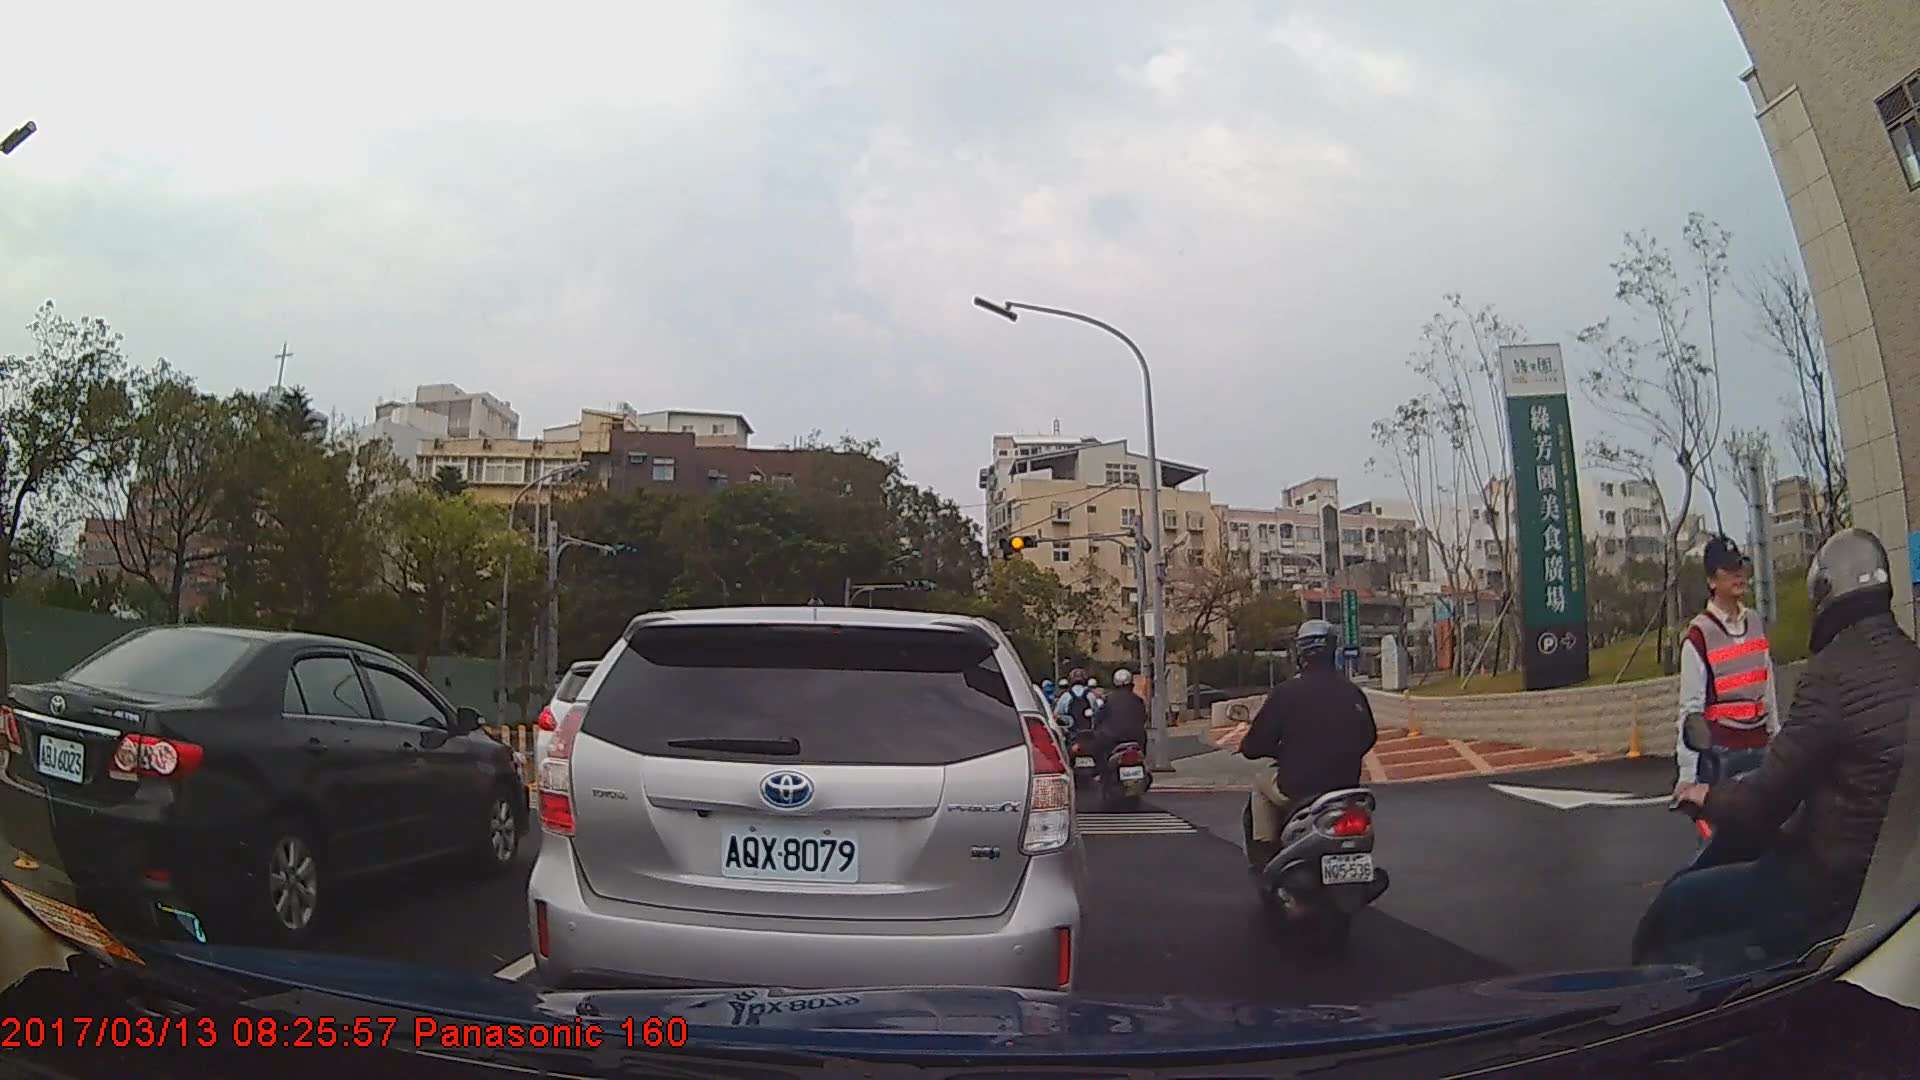pedestrian: (1670, 536, 1785, 985)
rider: (1632, 524, 1920, 1080), (1234, 619, 1388, 956), (1094, 665, 1155, 819), (1054, 667, 1111, 795)
vehicle: (529, 604, 1080, 1026), (4, 621, 529, 944), (1157, 680, 1225, 713)
